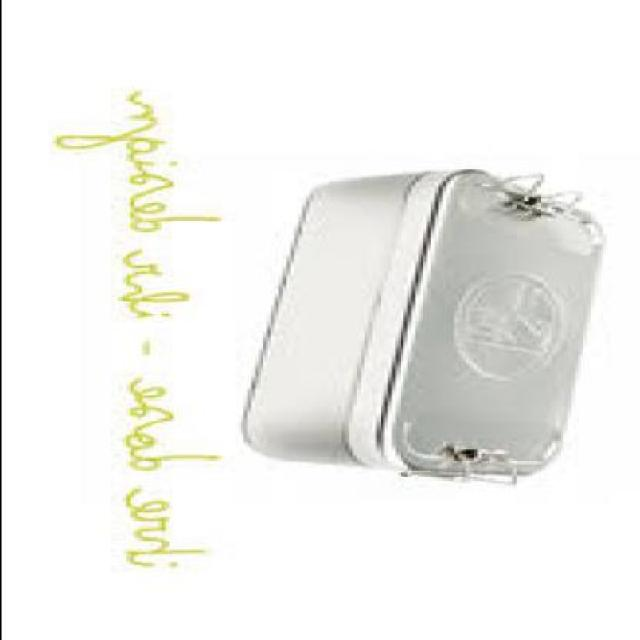metal: (246, 172, 606, 486)
